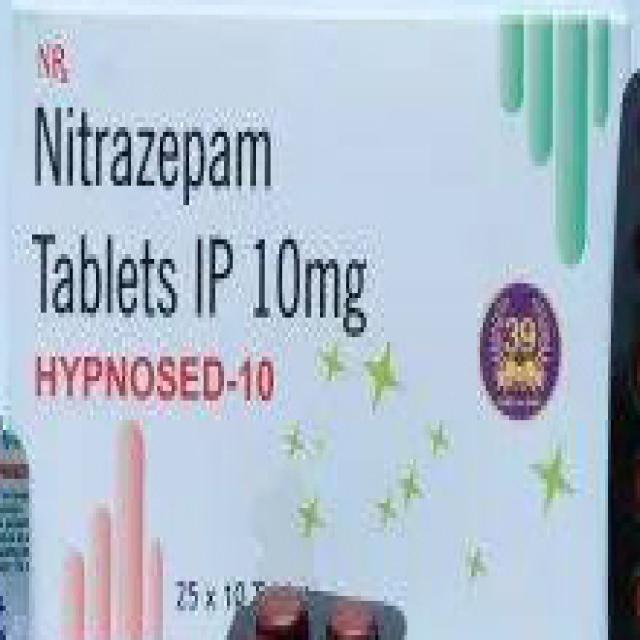drug-name: (34, 342, 278, 412)
